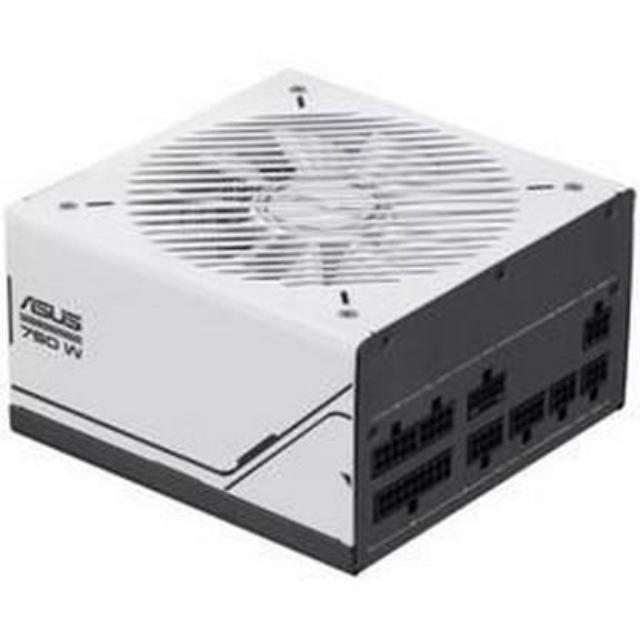PSU: (0, 55, 640, 577)
